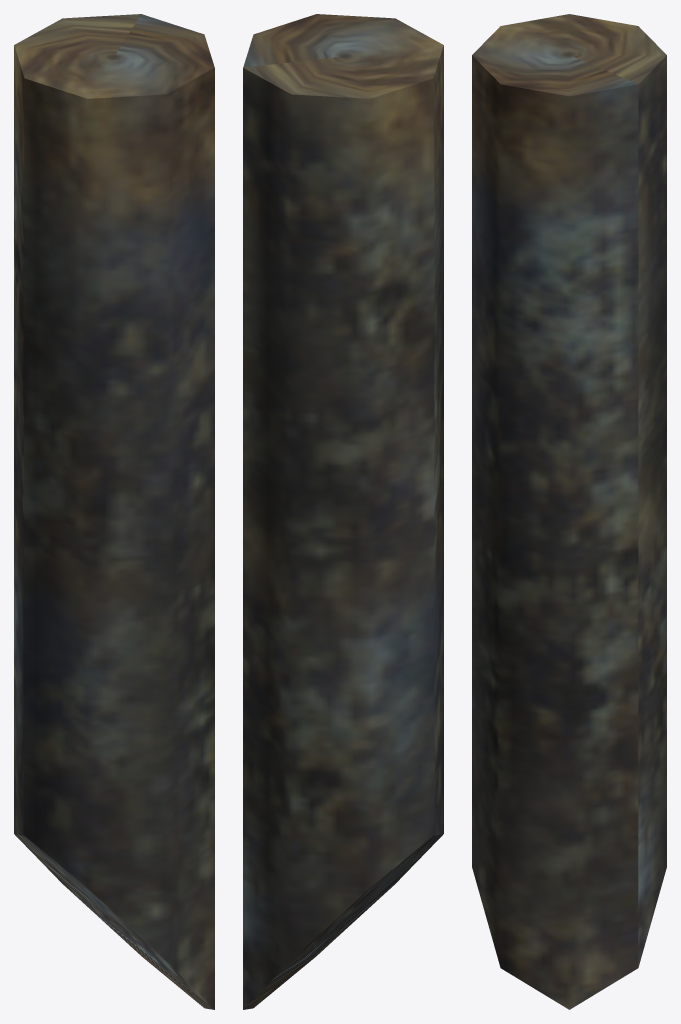
The model's file is item_steelpin01_part1.dae.
3 views of the same model, side by side, from view 1: azimuth 30°, elevation 25°; view 2: azimuth 150°, elevation 25°; view 3: azimuth 270°, elevation 25° (orthographic). The views are drawn at different scales.
Visible parts, largest first — view 1: steelpinpart1; view 2: steelpinpart1; view 3: steelpinpart1.
Boxes of the visible parts, left/top/right/bottom form: steelpinpart1: left=14, top=14, right=214, bottom=1009; steelpinpart1: left=243, top=14, right=443, bottom=1009; steelpinpart1: left=472, top=14, right=666, bottom=1009.
Size of what is drawn, in the model's own units: 0.1 by 0.5171 by 0.1.
